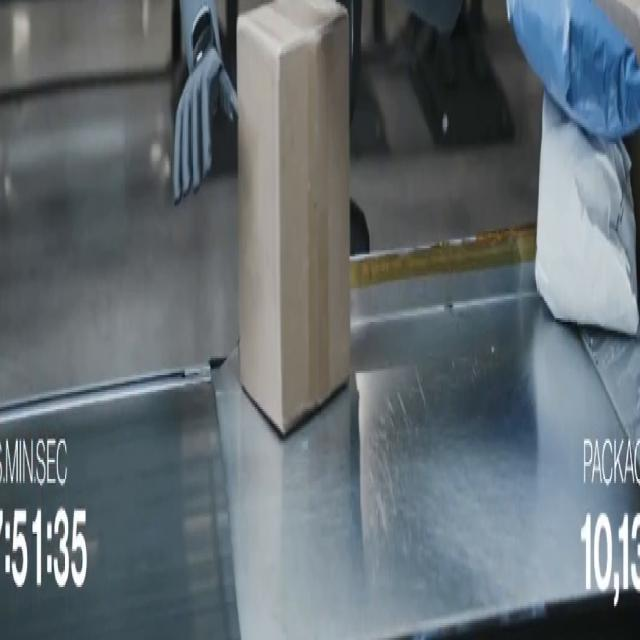package: (238, 0, 350, 434), (536, 94, 638, 334), (507, 0, 639, 139)
